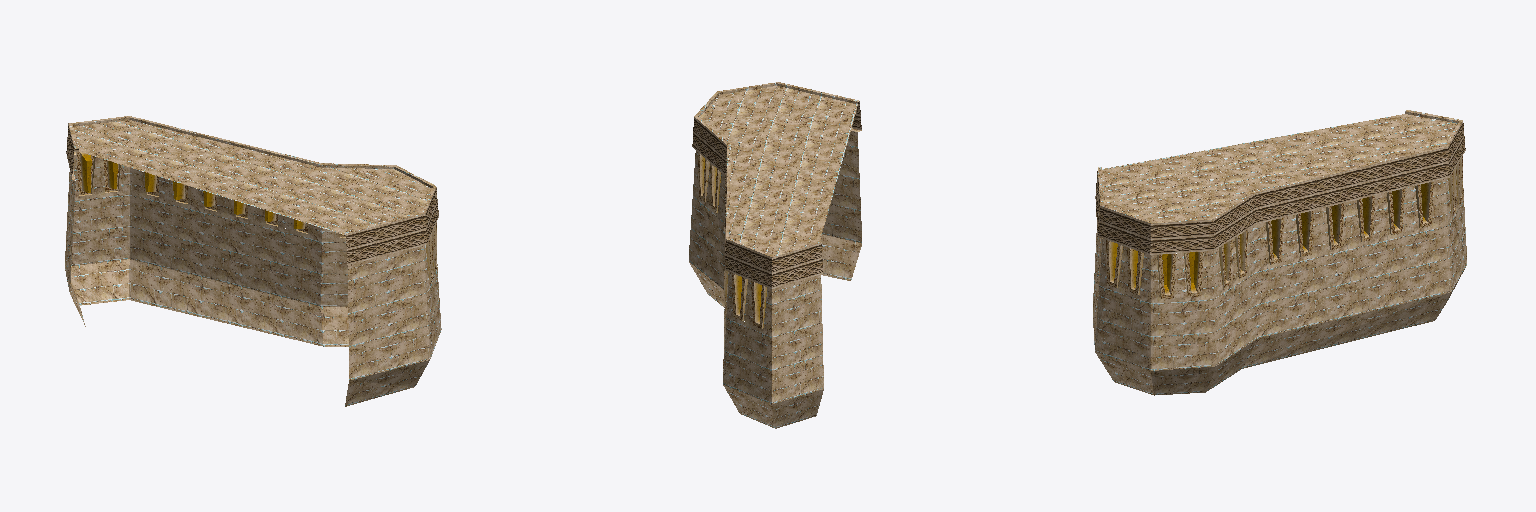
3 views of the same model, side by side, from view 1: azimuth 30°, elevation 25°; view 2: azimuth 150°, elevation 25°; view 3: azimuth 270°, elevation 25° (orthographic).
Visible parts, largest first — view 1: fortress05_05; view 2: fortress05_05; view 3: fortress05_05.
Part boxes in pixels (x1,y1,x2,y2): fortress05_05: (65, 116, 441, 406); fortress05_05: (689, 82, 861, 428); fortress05_05: (1093, 110, 1466, 395).
Bounding box in the file's own units: 59.72 × 41.9 × 80.04.
Materials: 4 (4 with a texture image).